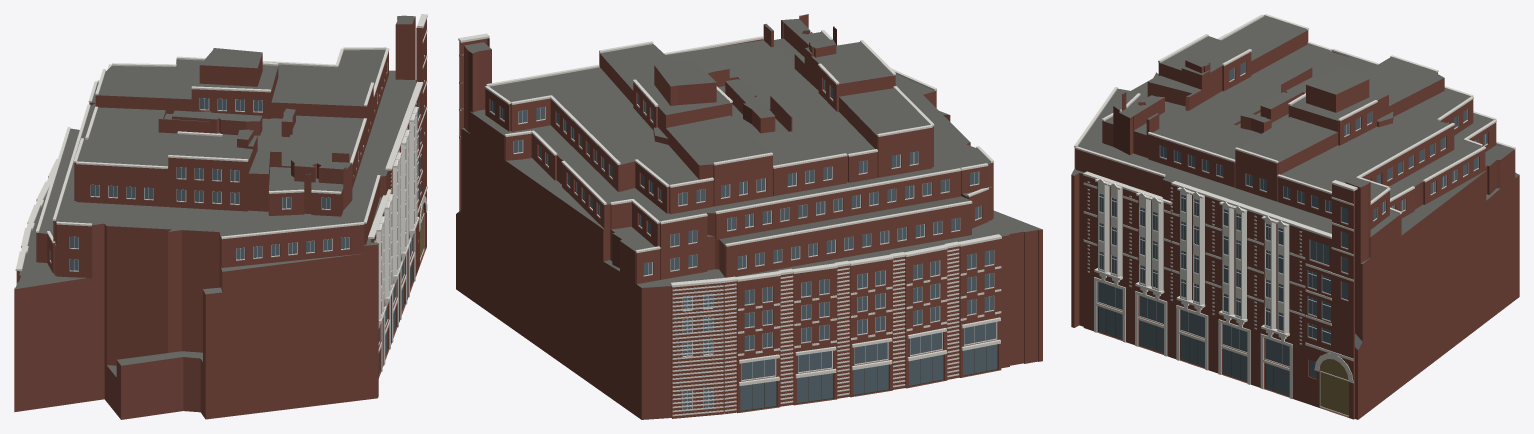
The model's file is brand-bij-ca.glb.
3 views of the same model, side by side, from view 1: azimuth 30°, elevation 25°; view 2: azimuth 150°, elevation 25°; view 3: azimuth 270°, elevation 25° (orthographic). The views are drawn at different scales.
Parts seen in each view (by area): view 1: brand-bij-ca; view 2: brand-bij-ca; view 3: brand-bij-ca.
Part boxes in pixels (x1,y1,x2,y2): brand-bij-ca: (14, 14, 427, 419); brand-bij-ca: (456, 14, 1042, 419); brand-bij-ca: (1071, 14, 1519, 419).
Bounding box in the file's own units: 80 × 38.87 × 65.44.
